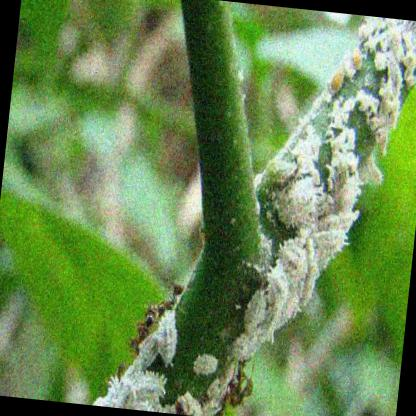mealy bug: (275, 179, 318, 229), (277, 242, 308, 285), (243, 290, 272, 329), (157, 310, 175, 362)
